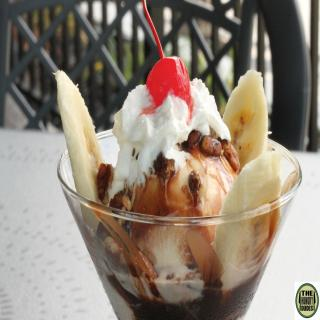Ice cream: (72, 52, 248, 244)
